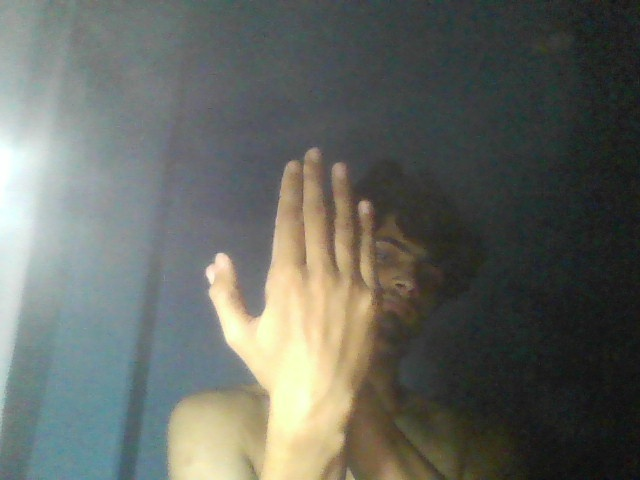ThankYou: (205, 144, 438, 480)
